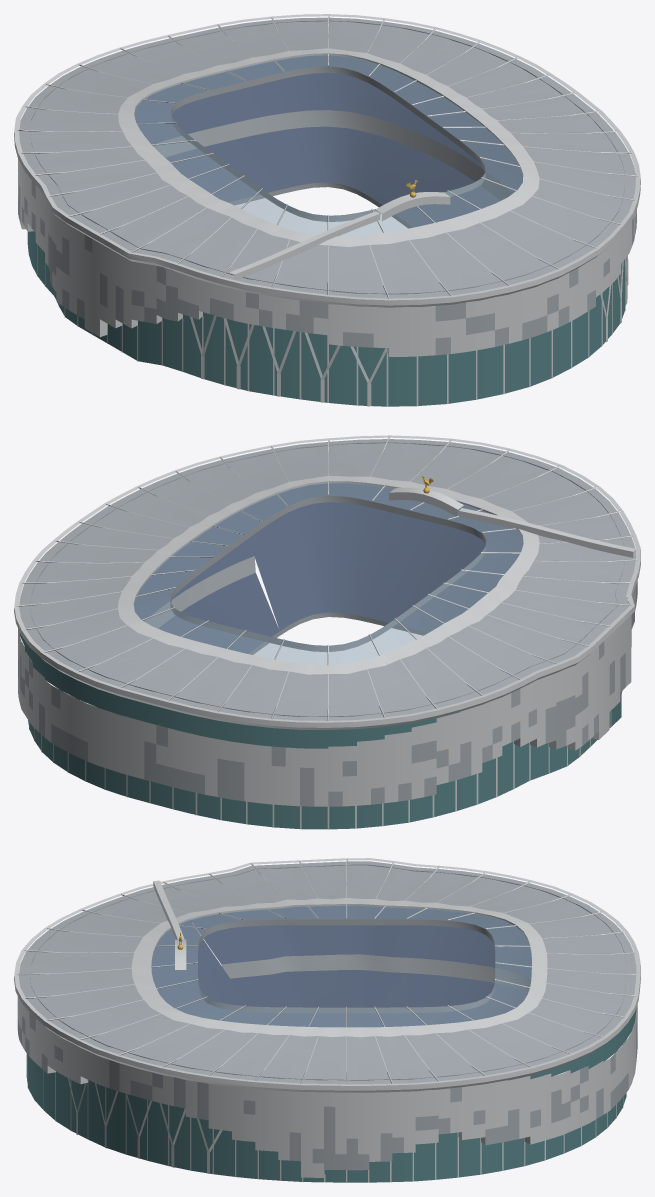
Rendered from london-tottenham-hotspur-stadium.glb.
The picture shows the model from 3 angles, top to bottom: view 1: azimuth 30°, elevation 25°; view 2: azimuth 150°, elevation 25°; view 3: azimuth 270°, elevation 25°; orthographic projection. The views are drawn at different scales.
Visible parts, largest first — view 1: Tottenham Hotspur Stadium; view 2: Tottenham Hotspur Stadium; view 3: Tottenham Hotspur Stadium.
Boxes of the visible parts, <box> form: Tottenham Hotspur Stadium: <box>14,14,640,406</box>; Tottenham Hotspur Stadium: <box>14,435,640,829</box>; Tottenham Hotspur Stadium: <box>14,858,640,1182</box>.
Size of the model in its own units: 209 by 59.62 by 243.
